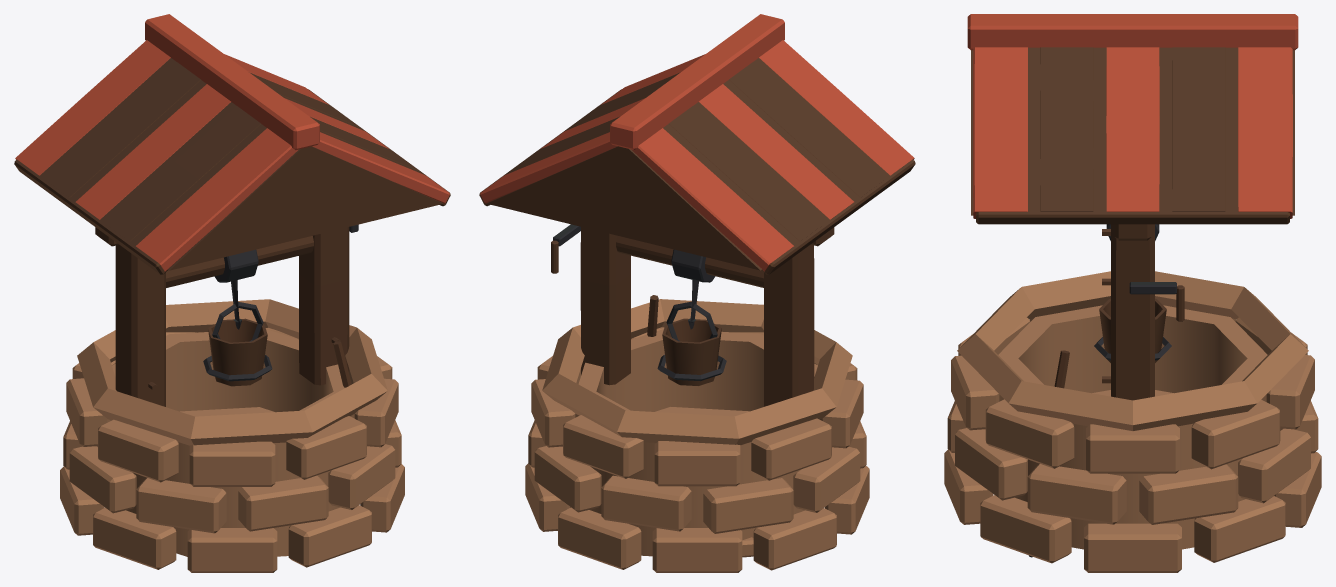
Rendered from prop_water_well_a.glb.
3 renders of one model, left to right at view 1: azimuth 30°, elevation 25°; view 2: azimuth 150°, elevation 25°; view 3: azimuth 270°, elevation 25°, orthographic. The views are drawn at different scales.
Visible parts, largest first — view 1: well_ground_stone_0, well_axle, well_roof_plank_left_0, well_bucket_band; view 2: well_ground_stone_0, well_axle, well_roof_plank_left_0, well_bucket_band; view 3: well_ground_stone_0, well_axle, well_roof_plank_left_0, well_bucket_band.
Boxes of the visible parts, x1=… form: well_ground_stone_0: x1=60, y1=299, x2=404, y2=572; well_axle: x1=14, y1=58, x2=450, y2=406; well_roof_plank_left_0: x1=15, y1=14, x2=449, y2=271; well_bucket_band: x1=203, y1=224, x2=358, y2=381; well_ground_stone_0: x1=525, y1=299, x2=869, y2=572; well_axle: x1=479, y1=58, x2=915, y2=406; well_roof_plank_left_0: x1=480, y1=14, x2=914, y2=271; well_bucket_band: x1=553, y1=224, x2=726, y2=381; well_ground_stone_0: x1=944, y1=271, x2=1321, y2=572; well_axle: x1=971, y1=47, x2=1294, y2=400; well_roof_plank_left_0: x1=967, y1=14, x2=1298, y2=218; well_bucket_band: x1=1029, y1=224, x2=1176, y2=557.
Size of the model in its own units: 2.21 by 3.13 by 2.23.
